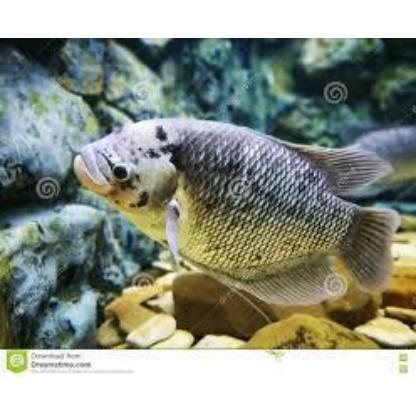gurame: (75, 116, 391, 304)
